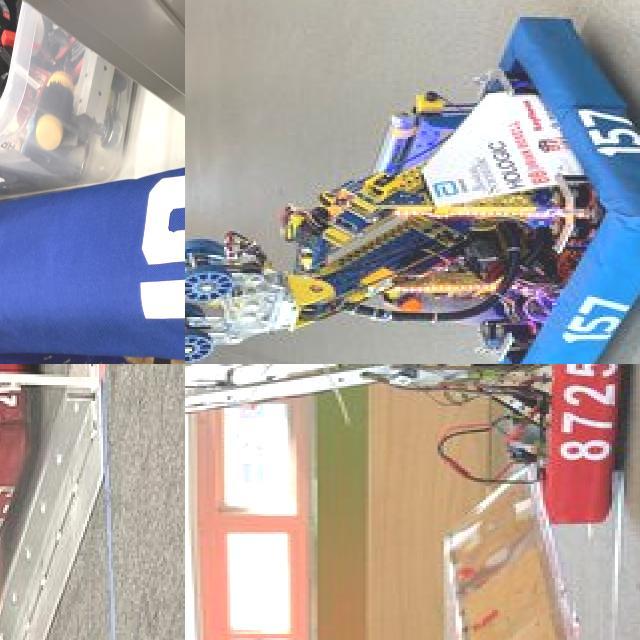FRC-Robots: (185, 0, 640, 364), (185, 364, 631, 502), (0, 364, 92, 552)
